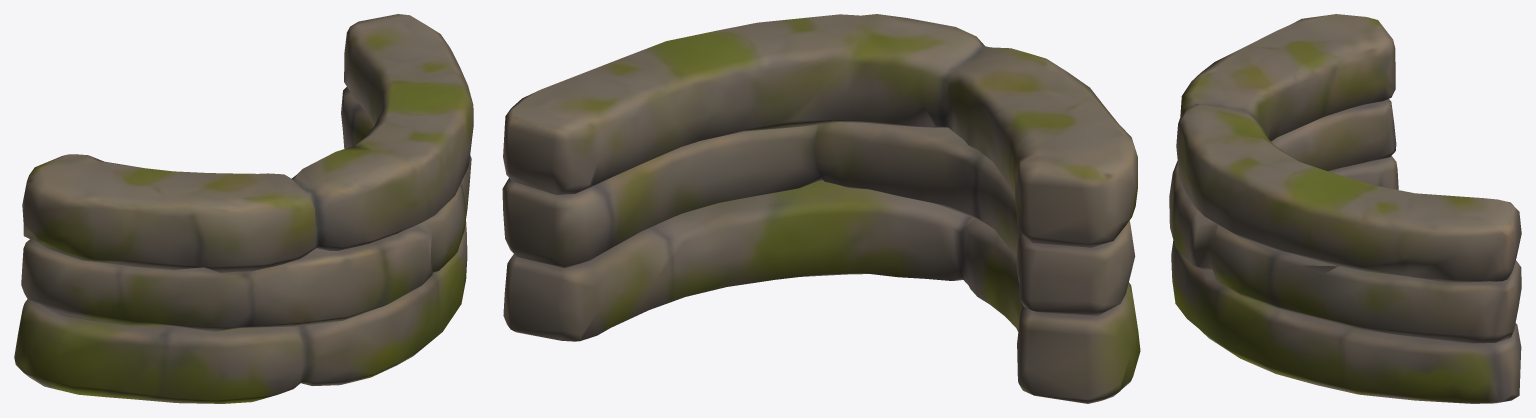
File: muro_curvo_piedra.glb
3 renders of one model, left to right at view 1: azimuth 30°, elevation 25°; view 2: azimuth 150°, elevation 25°; view 3: azimuth 270°, elevation 25°, orthographic. The views are drawn at different scales.
Parts seen in each view (by area): view 1: muro_curvo_piedra; view 2: muro_curvo_piedra; view 3: muro_curvo_piedra.
Part boxes in pixels (<box>): muro_curvo_piedra: <box>14,14,473,403</box>; muro_curvo_piedra: <box>502,14,1140,403</box>; muro_curvo_piedra: <box>1169,14,1521,403</box>.
Size of the model in its own units: 0.341 by 0.1405 by 0.2299.
Materials: 1 (1 with a texture image).
